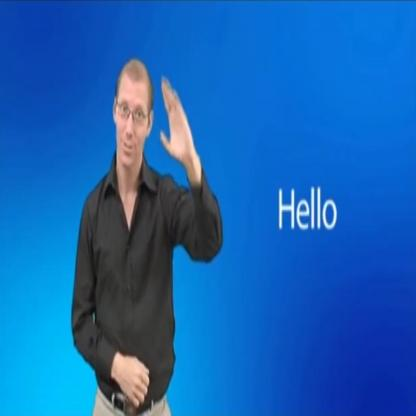Hello: (69, 54, 225, 416)
